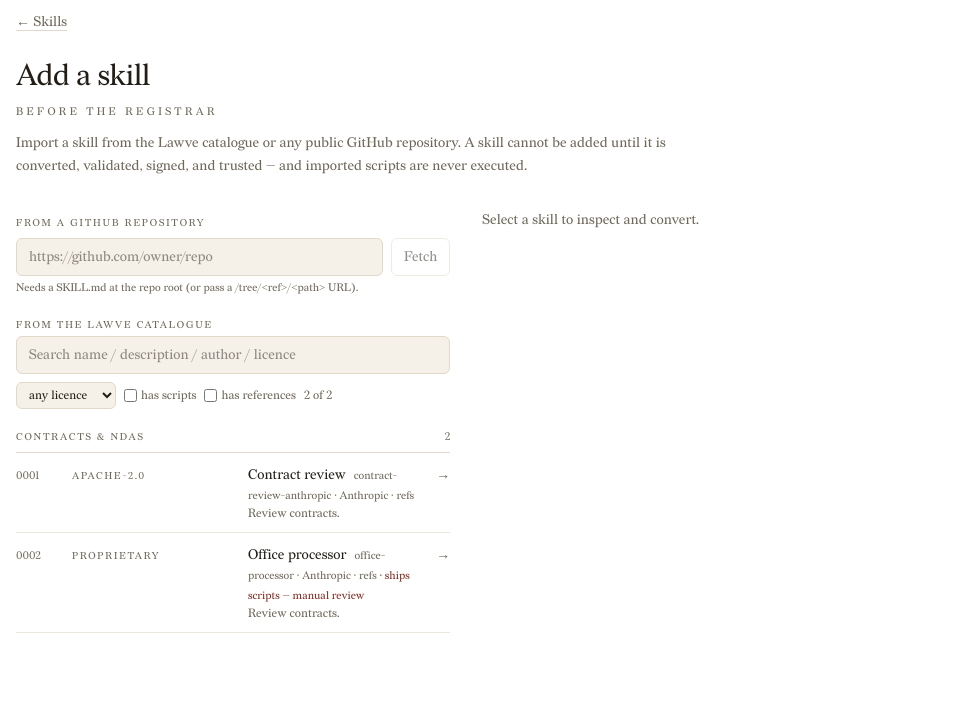
Test: LawveImport › shows Needs licence review when an AGPL warning is present
Click the button with test id "lawve-card-contract-review-anthropic" at point(233, 493), box left=16, top=452, right=450, bottom=533
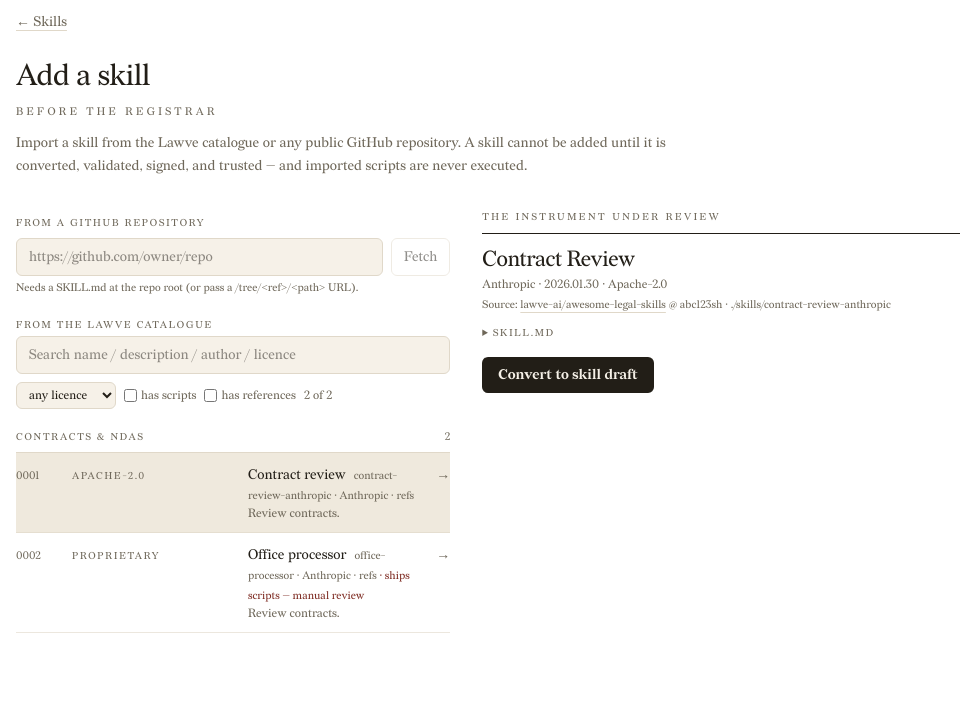
Expected: the button with test id "convert-draft" is shown
Click the button with test id "convert-draft" at point(568, 374), box left=482, top=356, right=654, bottom=392
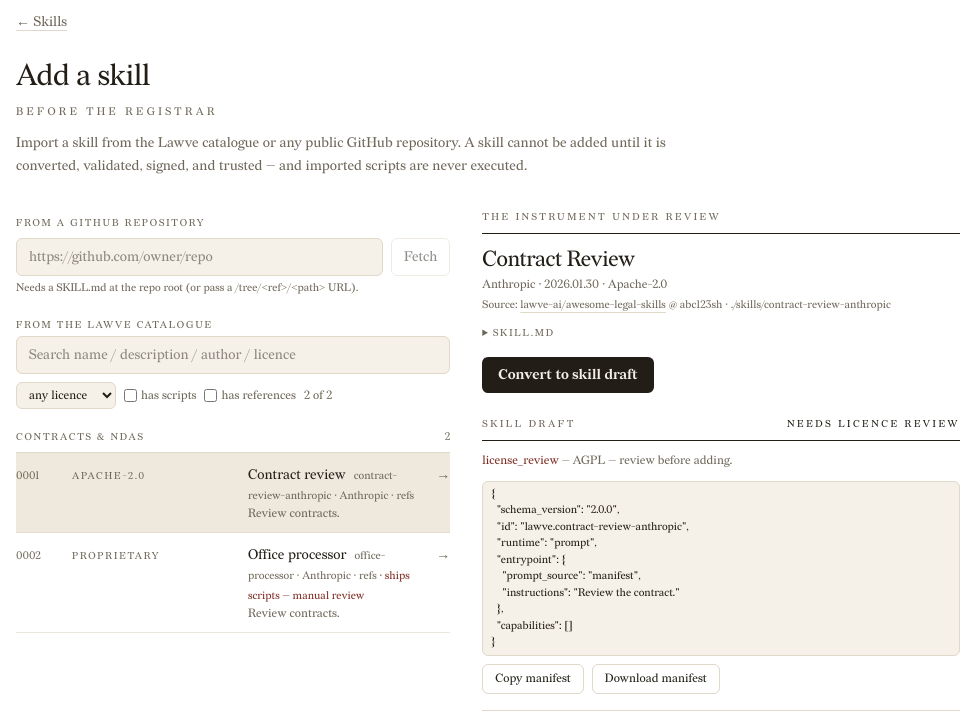
Expected: the text with test id "draft-trust-state" reads "Needs licence review", left=787, top=418, right=960, bottom=430
